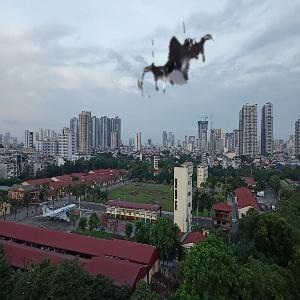drone: (134, 8, 222, 96)
